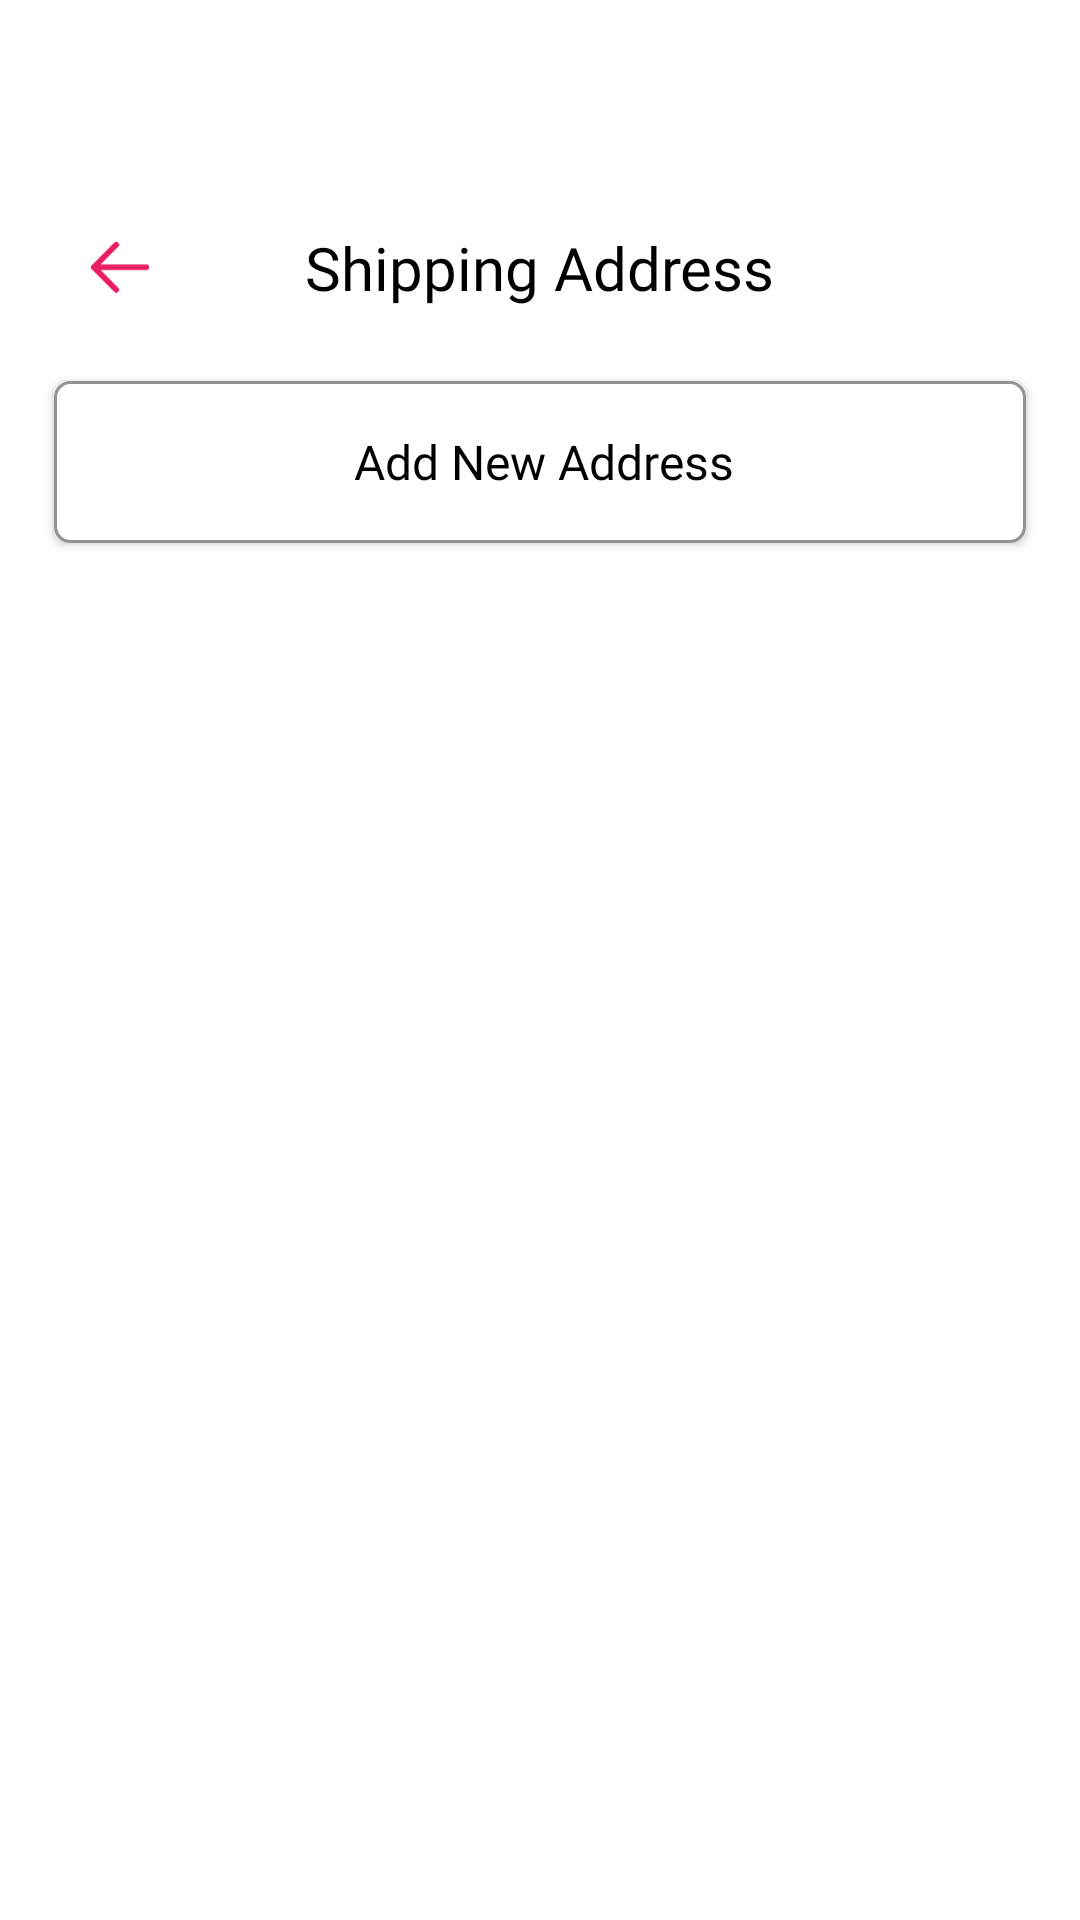

Where to tap for icons on this 1080px×1920px app screen, as [x,y]:
left: [119,267]
